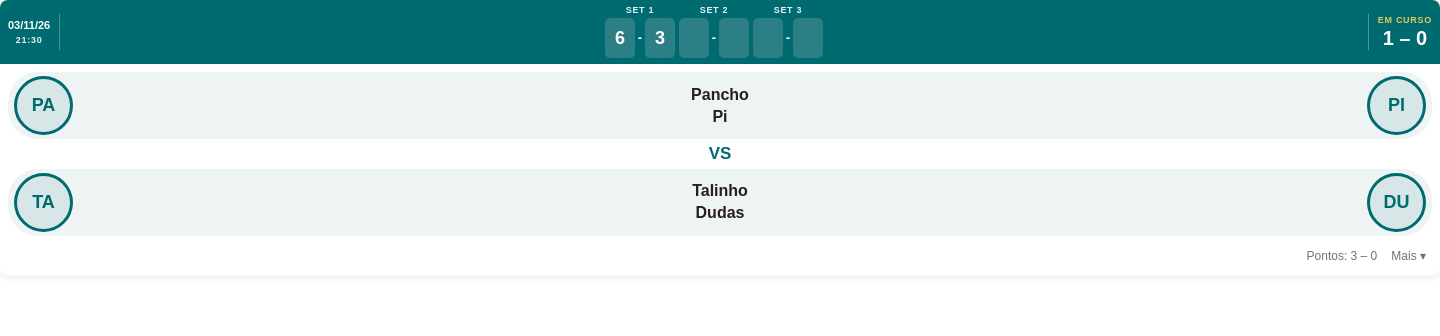
Test: ResultCard › keeps the saved sets typed in place and Cancelar puts them back
The image size is (1440, 336).
Expected: the field named "Set 1 casa" holds "6", x1=605 y1=18 x2=635 y2=58
Expected: the text "em curso" is shown, x1=1378 y1=16 x2=1432 y2=25
Type "4" into the field named "Set 2 casa". click: (694, 38)
box: x1=679 y1=18 x2=709 y2=58
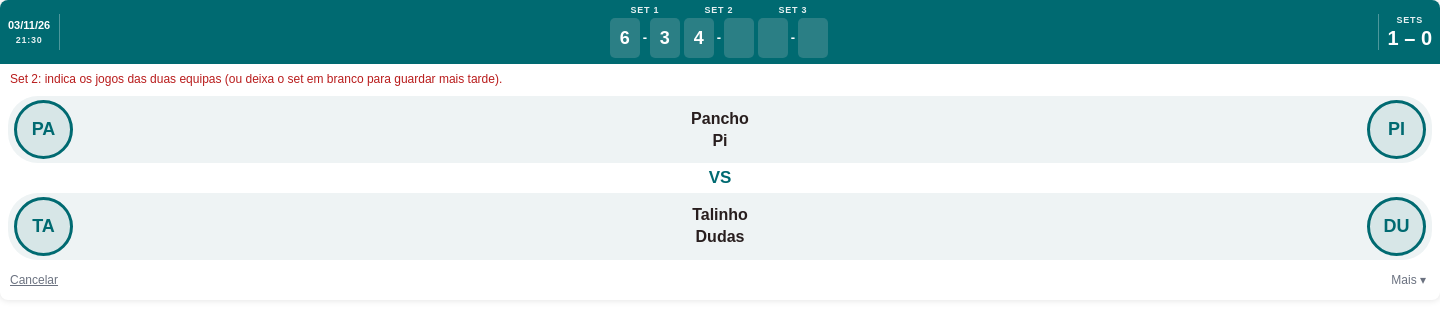
Type "6" into the field named "Set 2 fora". click: (739, 38)
box: x1=724 y1=18 x2=754 y2=58
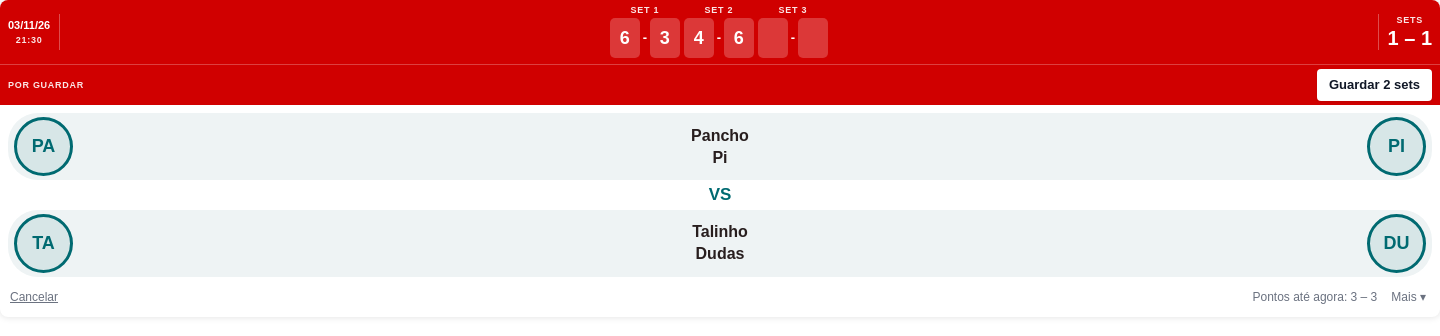
Result: the button "Guardar 2 sets" is shown at x1=1317 y1=69 x2=1432 y2=101
Click the button "Cancelar". click: (34, 296)
box: x1=10 y1=280 x2=58 y2=312
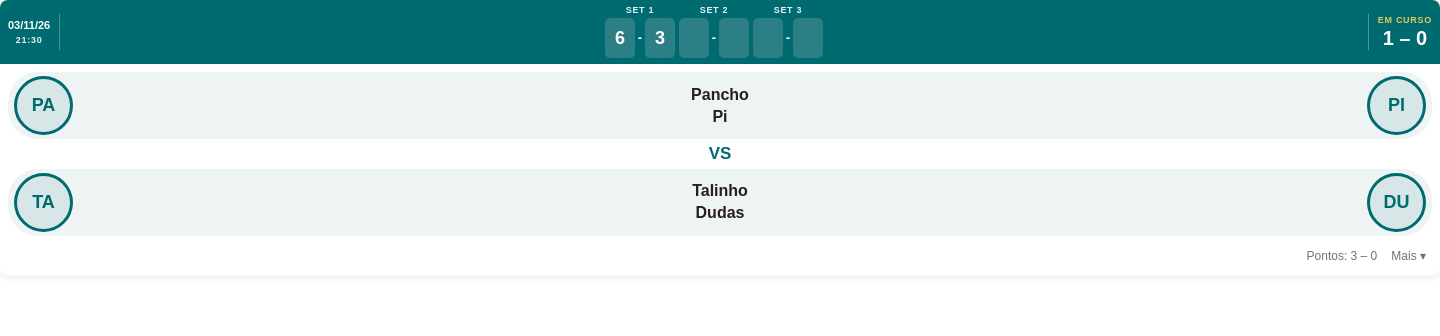
Result: the field named "Set 2 casa" is empty at x1=679 y1=18 x2=709 y2=58
Result: the text "guardar" is gone
